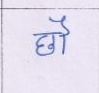au_matra: (53, 16, 73, 54)
